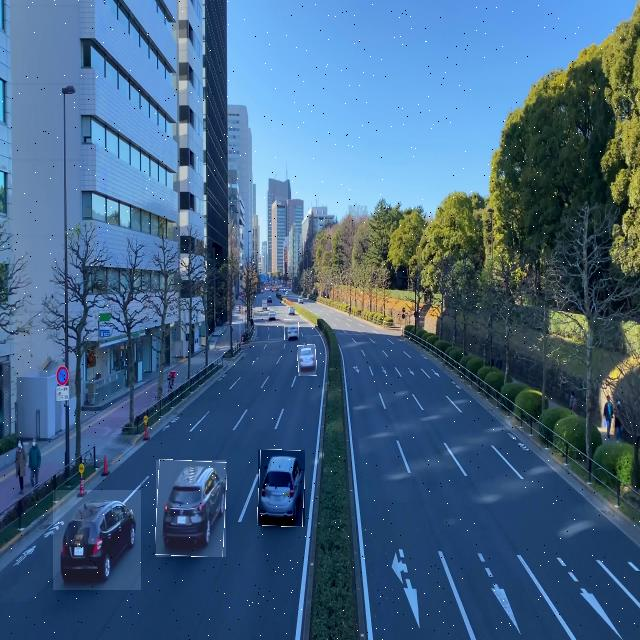Car: (53, 490, 141, 590), (156, 460, 226, 557), (258, 450, 305, 526), (298, 345, 316, 376), (285, 319, 299, 342)
